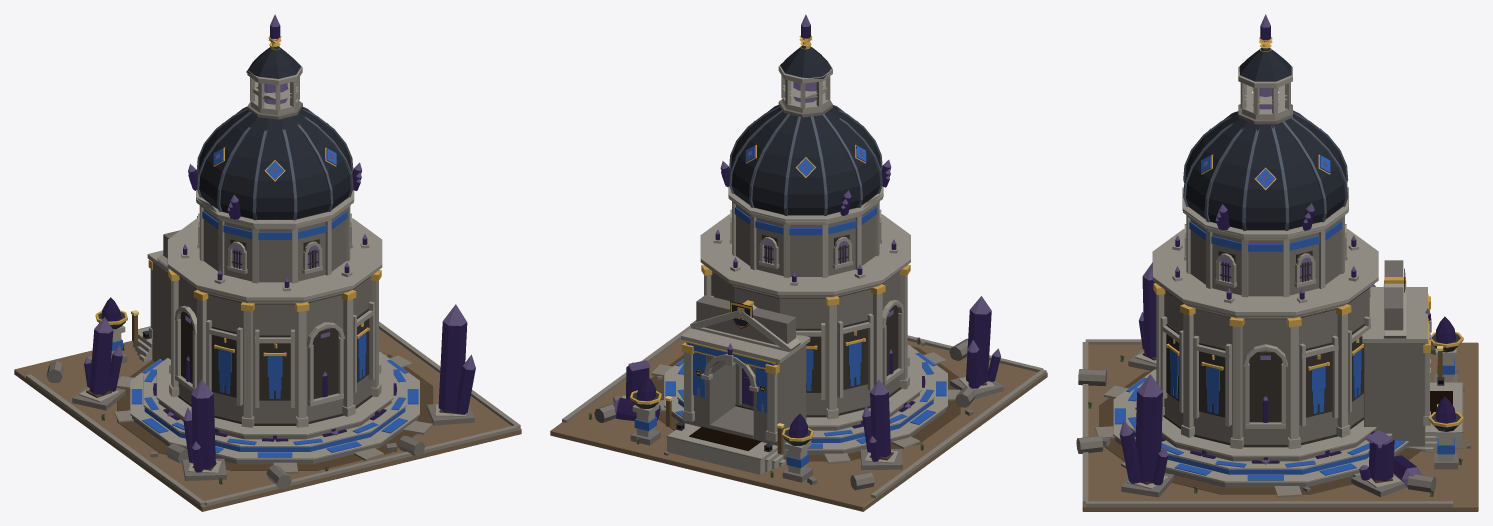
Rendered from 神秘圣地_训练.glb.
3 views of the same model, side by side, from view 1: azimuth 30°, elevation 25°; view 2: azimuth 150°, elevation 25°; view 3: azimuth 270°, elevation 25° (orthographic). The views are drawn at different scales.
Parts seen in each view (by area): view 1: MS-主体, MS-自发光, MS-team; view 2: MS-主体, MS-自发光, MS-team; view 3: MS-主体, MS-自发光, MS-team.
Boxes of the visible parts, <box> form: MS-主体: <box>14,35,521,511</box>; MS-自发光: <box>84,14,475,472</box>; MS-team: <box>112,123,418,457</box>; MS-主体: <box>550,35,1047,511</box>; MS-自发光: <box>613,14,1000,461</box>; MS-team: <box>634,121,946,468</box>; MS-主体: <box>1076,37,1478,511</box>; MS-自发光: <box>1119,14,1455,487</box>; MS-team: <box>1114,128,1454,480</box>.
Bounding box in the file's own units: 13.7 × 16.18 × 14.17.
4 materials, 2 textured.
